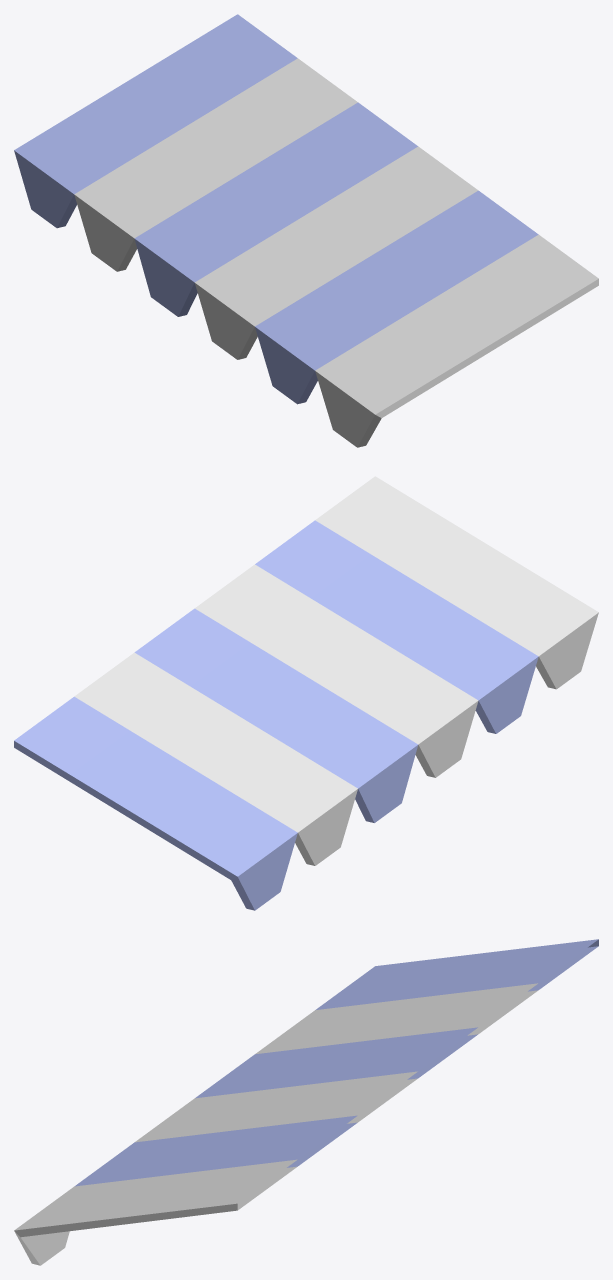
File: Awning_3_B.fbx
3 renders of one model, top to bottom at view 1: azimuth 30°, elevation 25°; view 2: azimuth 150°, elevation 25°; view 3: azimuth 330°, elevation 25°, orthographic.
Parts seen in each view (by area): view 1: Awning_3_B; view 2: Awning_3_B; view 3: Awning_3_B.
Boxes of the visible parts, bbox=[...] form: Awning_3_B: bbox=[14, 14, 598, 447]; Awning_3_B: bbox=[14, 476, 598, 910]; Awning_3_B: bbox=[14, 939, 598, 1265].
Bounding box in the file's own units: 99.94 × 54.72 × 280.
